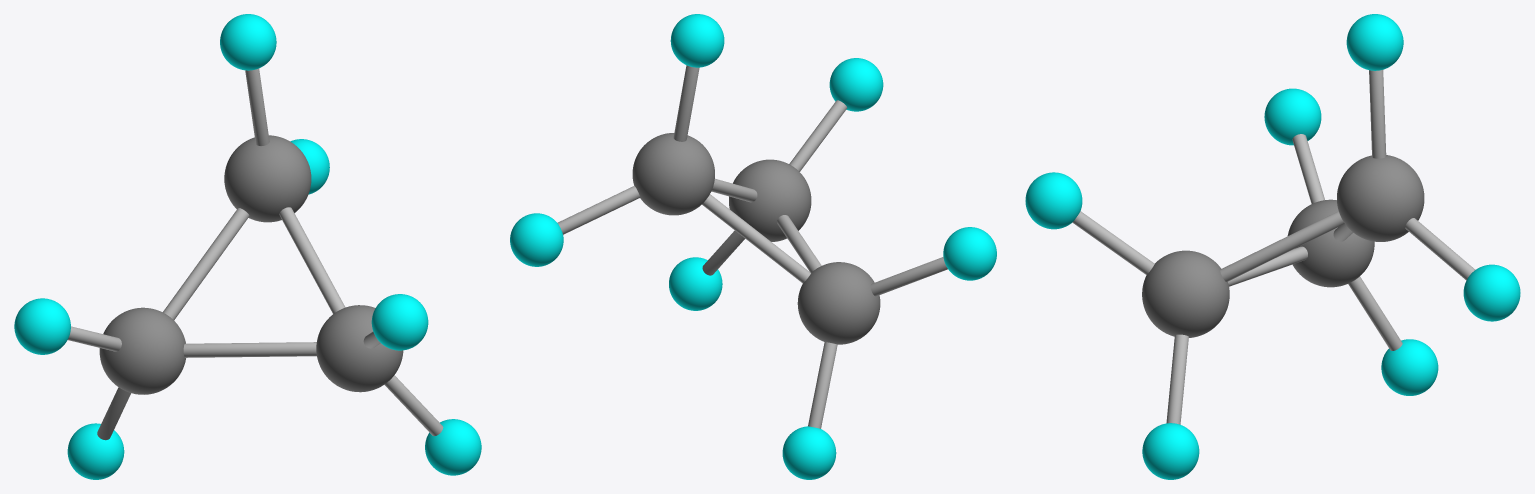
The model's file is cyclopropane.glb.
3 views of the same model, side by side, from view 1: azimuth 30°, elevation 25°; view 2: azimuth 150°, elevation 25°; view 3: azimuth 270°, elevation 25° (orthographic). The views are drawn at different scales.
Parts seen in each view (by area): view 1: CMAtom_0, CMAtom_1, CMAtom_2, CMAtom_5, CMAtom_3, CMAtom_8, CMAtom_7, CMAtom_6, CMBond_2_Segment_0, CMBond_1_Segment_0, CMBond_3_Segment_0, CMBond_4_Segment_0 (+4 smaller); view 2: CMAtom_1, CMAtom_0, CMAtom_2, CMAtom_5, CMAtom_3, CMAtom_4, CMAtom_6, CMAtom_8, CMAtom_7, CMBond_1_Segment_0, CMBond_7_Segment_0, CMBond_5_Segment_0 (+6 smaller); view 3: CMAtom_2, CMAtom_0, CMAtom_1, CMAtom_4, CMAtom_8, CMAtom_3, CMAtom_7, CMAtom_6, CMAtom_5, CMBond_3_Segment_0, CMBond_9_Segment_0, CMBond_8_Segment_0 (+5 smaller).
Part boxes in pixels (bbox=[...]): CMAtom_0: bbox=[224, 135, 311, 222]; CMAtom_1: bbox=[99, 307, 185, 394]; CMAtom_2: bbox=[316, 305, 403, 392]; CMAtom_5: bbox=[14, 298, 70, 354]; CMAtom_3: bbox=[220, 14, 276, 70]; CMAtom_8: bbox=[371, 294, 428, 350]; CMAtom_7: bbox=[425, 419, 481, 475]; CMAtom_6: bbox=[67, 423, 124, 479]; CMBond_2_Segment_0: bbox=[183, 342, 316, 357]; CMBond_1_Segment_0: bbox=[163, 208, 249, 320]; CMBond_3_Segment_0: bbox=[279, 207, 345, 313]; CMBond_4_Segment_0: bbox=[245, 68, 269, 145]; CMAtom_1: bbox=[797, 262, 880, 344]; CMAtom_0: bbox=[632, 133, 714, 215]; CMAtom_2: bbox=[729, 159, 811, 241]; CMAtom_5: bbox=[943, 227, 996, 280]; CMAtom_3: bbox=[670, 14, 724, 67]; CMAtom_4: bbox=[510, 213, 563, 266]; CMAtom_6: bbox=[782, 426, 836, 479]; CMAtom_8: bbox=[829, 58, 883, 111]; CMAtom_7: bbox=[669, 257, 722, 310]; CMBond_1_Segment_0: bbox=[702, 194, 810, 283]; CMBond_7_Segment_0: bbox=[808, 342, 837, 428]; CMBond_5_Segment_0: bbox=[557, 186, 640, 234]; CMAtom_2: bbox=[1142, 250, 1229, 337]; CMAtom_0: bbox=[1337, 155, 1424, 241]; CMAtom_1: bbox=[1287, 199, 1374, 287]; CMAtom_4: bbox=[1463, 264, 1520, 321]; CMAtom_8: bbox=[1025, 172, 1082, 229]; CMAtom_3: bbox=[1346, 14, 1403, 70]; CMAtom_7: bbox=[1142, 423, 1199, 479]; CMAtom_6: bbox=[1381, 339, 1438, 395]; CMAtom_5: bbox=[1264, 88, 1321, 145]; CMBond_3_Segment_0: bbox=[1220, 211, 1344, 282]; CMBond_9_Segment_0: bbox=[1072, 211, 1154, 274]; CMBond_8_Segment_0: bbox=[1166, 334, 1188, 424].
Bounding box in the file's own units: 3.32 × 3.44 × 3.48.
